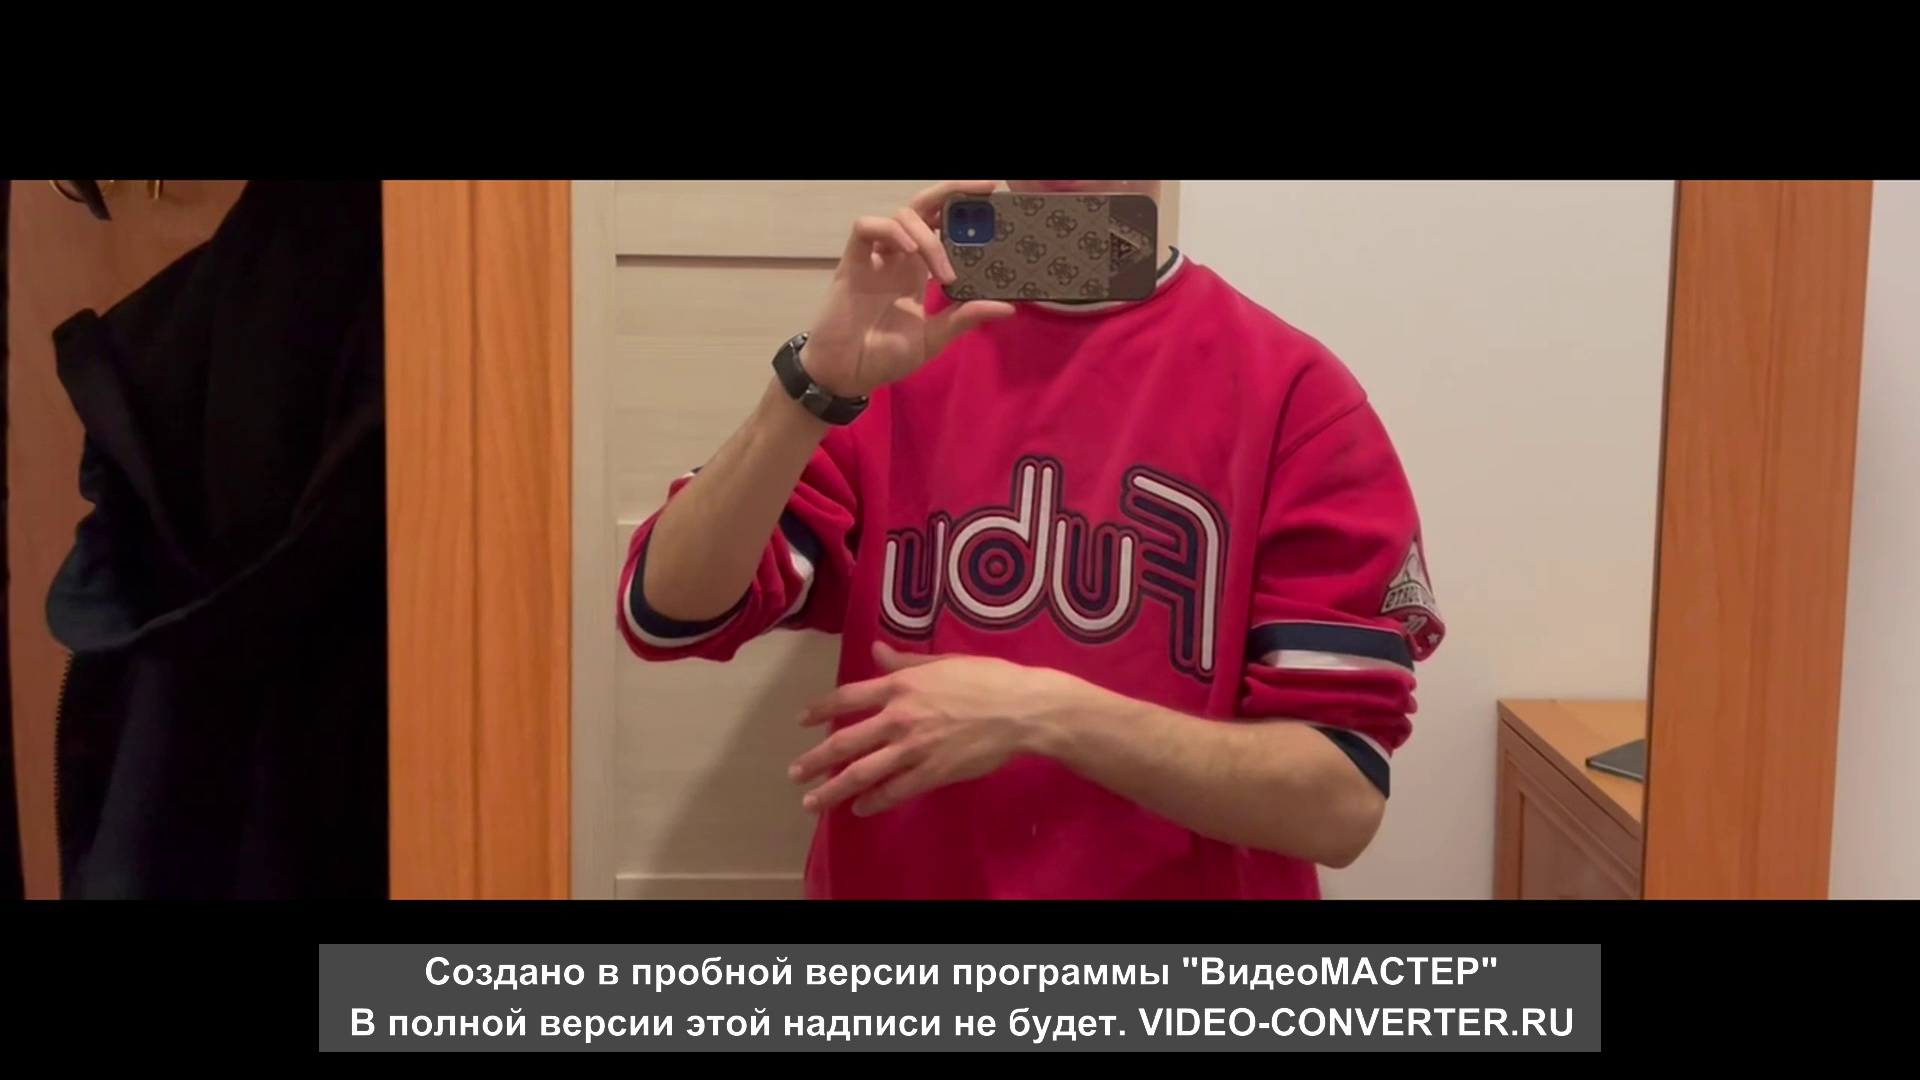Кисть: (787, 644, 1052, 816)
